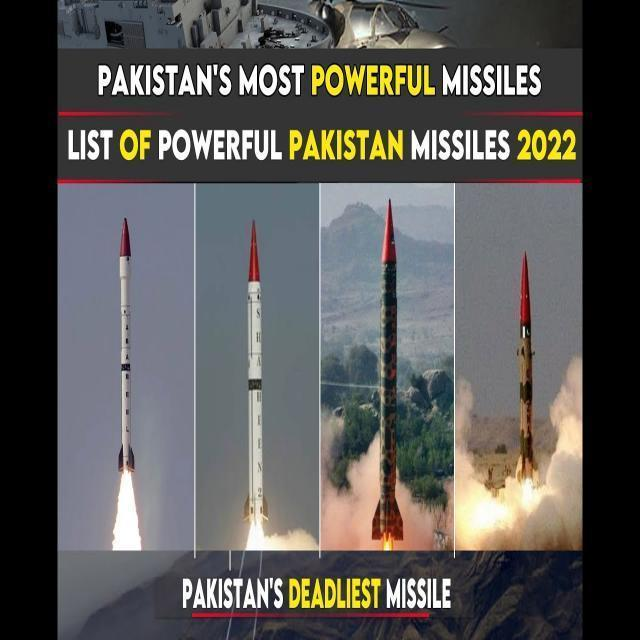Missile: (374, 198, 408, 548), (244, 217, 271, 523), (114, 208, 139, 475), (515, 249, 540, 485)
